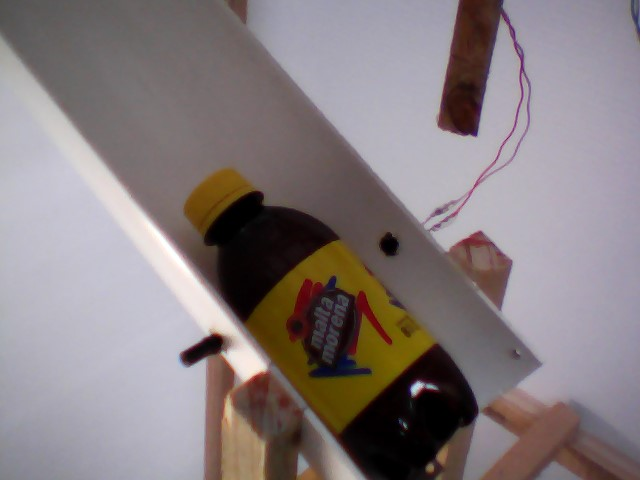plastico: (179, 162, 482, 480)
